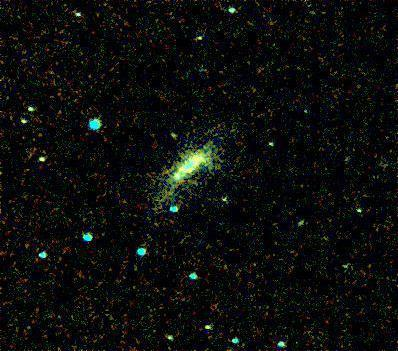star: (210, 62, 240, 92)
